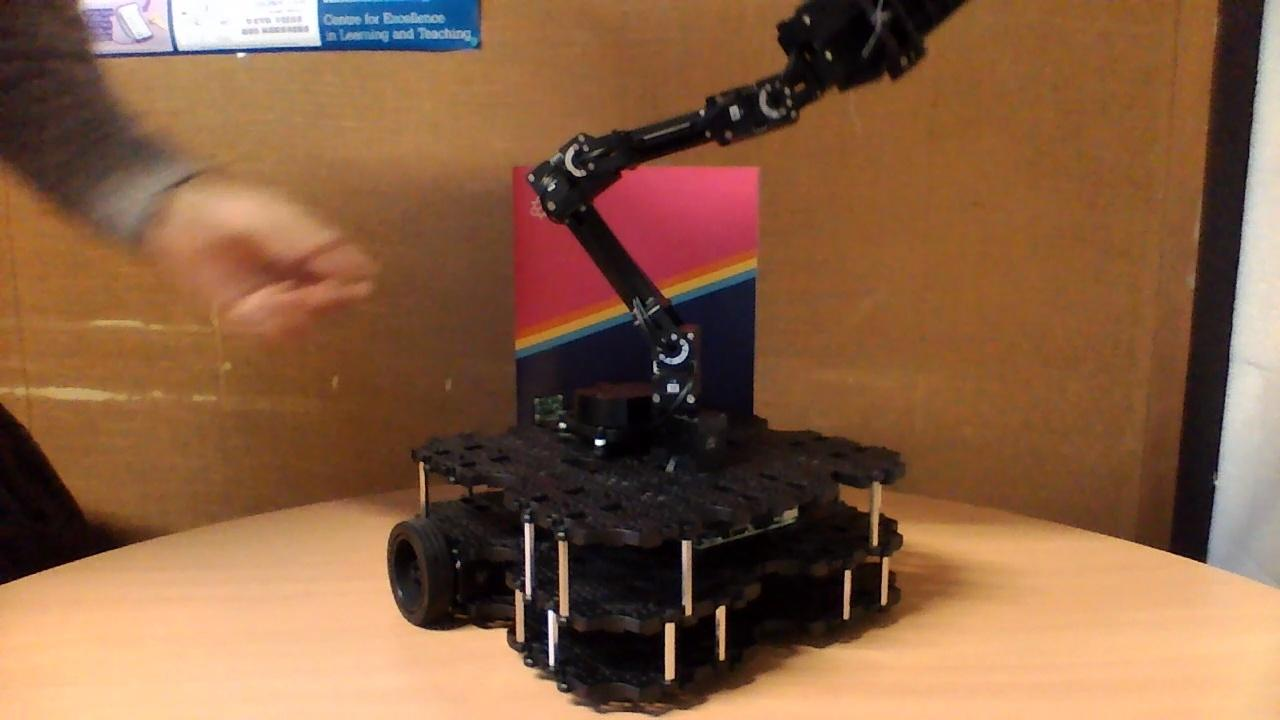Arm: (521, 170, 705, 374)
Hand: (774, 0, 976, 108)
Wrist: (563, 73, 801, 180)
base: (384, 378, 907, 706)
